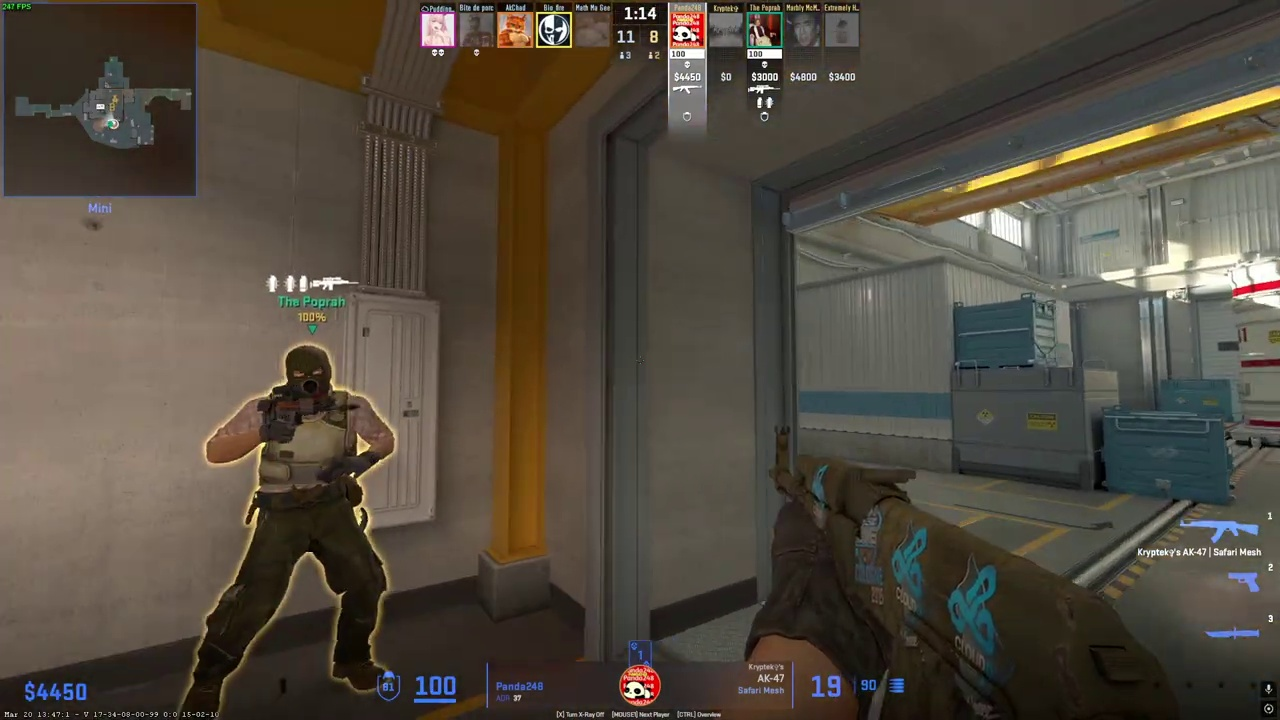Terrorist: (203, 344, 395, 720)
